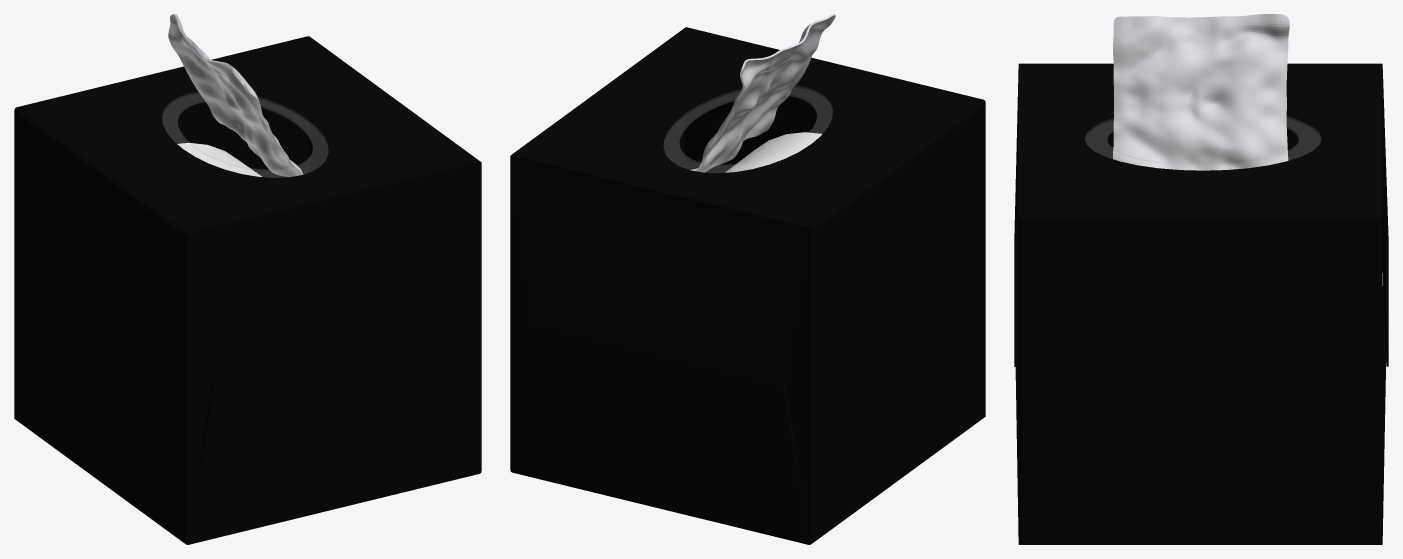
Rendered from tissue_box.glb.
The picture shows the model from 3 angles, left to right: view 1: azimuth 30°, elevation 25°; view 2: azimuth 150°, elevation 25°; view 3: azimuth 270°, elevation 25°; orthographic projection. The views are drawn at different scales.
Visible parts, largest first — view 1: Plane, Plane.001, Cylinder.001; view 2: Plane, Plane.001, Cylinder.001; view 3: Plane, Plane.001.
Part boxes in pixels (left/top/right/bottom): Plane: left=14, top=36, right=481, bottom=544; Plane.001: left=168, top=14, right=303, bottom=177; Cylinder.001: left=177, top=142, right=262, bottom=176; Plane: left=510, top=27, right=985, bottom=544; Plane.001: left=690, top=14, right=835, bottom=172; Cylinder.001: left=725, top=132, right=822, bottom=172; Plane: left=1014, top=63, right=1388, bottom=544; Plane.001: left=1113, top=14, right=1289, bottom=170.
Size of what is drawn, in the model's own units: 1.96 by 2.59 by 2.01.
5 materials, 1 textured.
